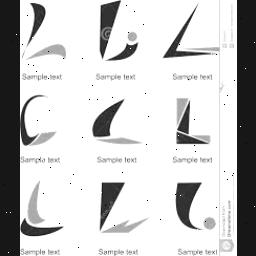l: (88, 172, 152, 240), (160, 0, 222, 64), (20, 0, 70, 66), (166, 90, 214, 152)
